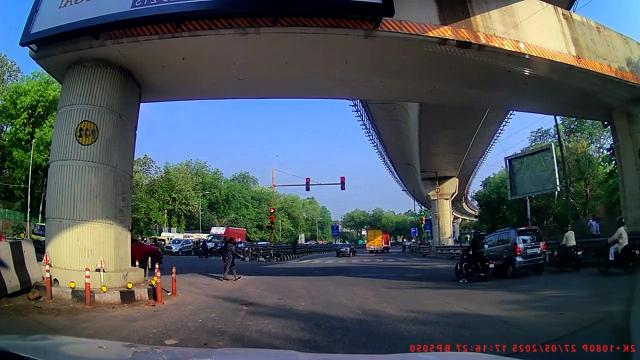motorcycle_with_helmet: (598, 216, 636, 275), (454, 229, 493, 283), (556, 224, 583, 272)
